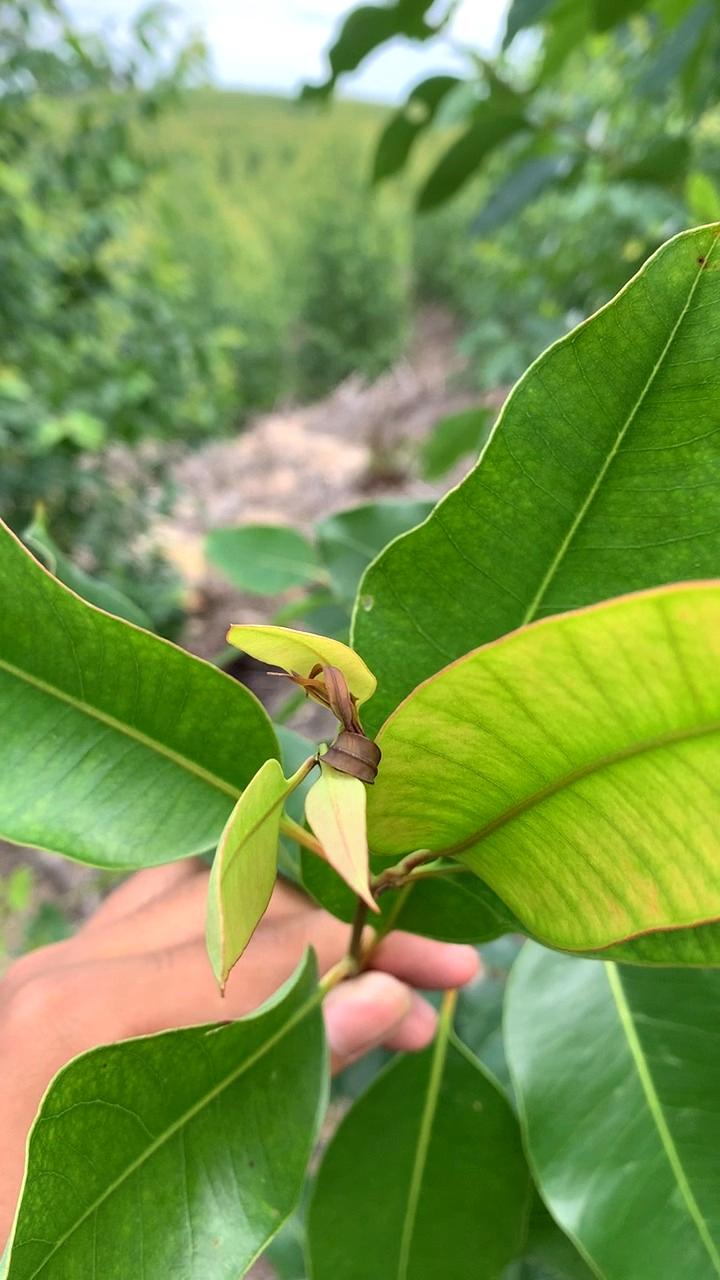Helopeltis-Withered Sprout: (266, 658, 403, 799)
